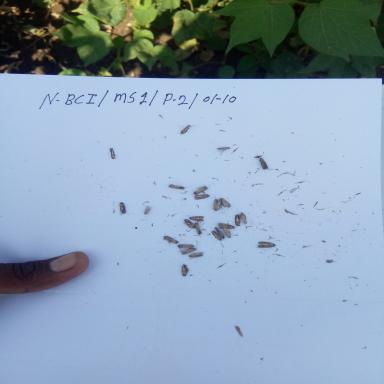pbw: (175, 122, 197, 138), (230, 323, 249, 340), (114, 200, 130, 217), (140, 203, 156, 220), (253, 240, 277, 250), (230, 212, 244, 229), (161, 234, 180, 246), (191, 184, 210, 195), (190, 221, 204, 235), (189, 213, 208, 223), (210, 197, 223, 211), (213, 144, 232, 153), (166, 182, 187, 190), (218, 197, 232, 208), (107, 146, 118, 160), (218, 221, 236, 229), (258, 158, 270, 170), (210, 230, 222, 242), (215, 227, 226, 240), (238, 211, 248, 225), (222, 225, 232, 239), (176, 242, 195, 249), (178, 247, 196, 254), (181, 264, 190, 278), (184, 218, 195, 229), (194, 194, 211, 201), (187, 252, 204, 258)
